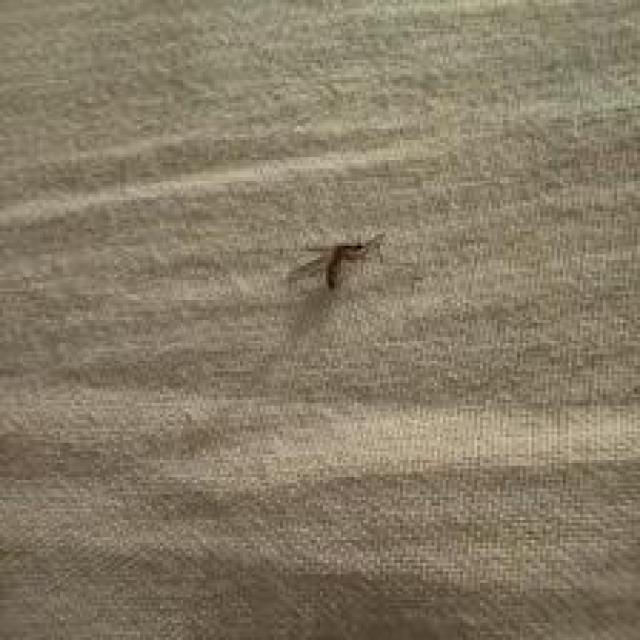Culex: (283, 230, 386, 296)
